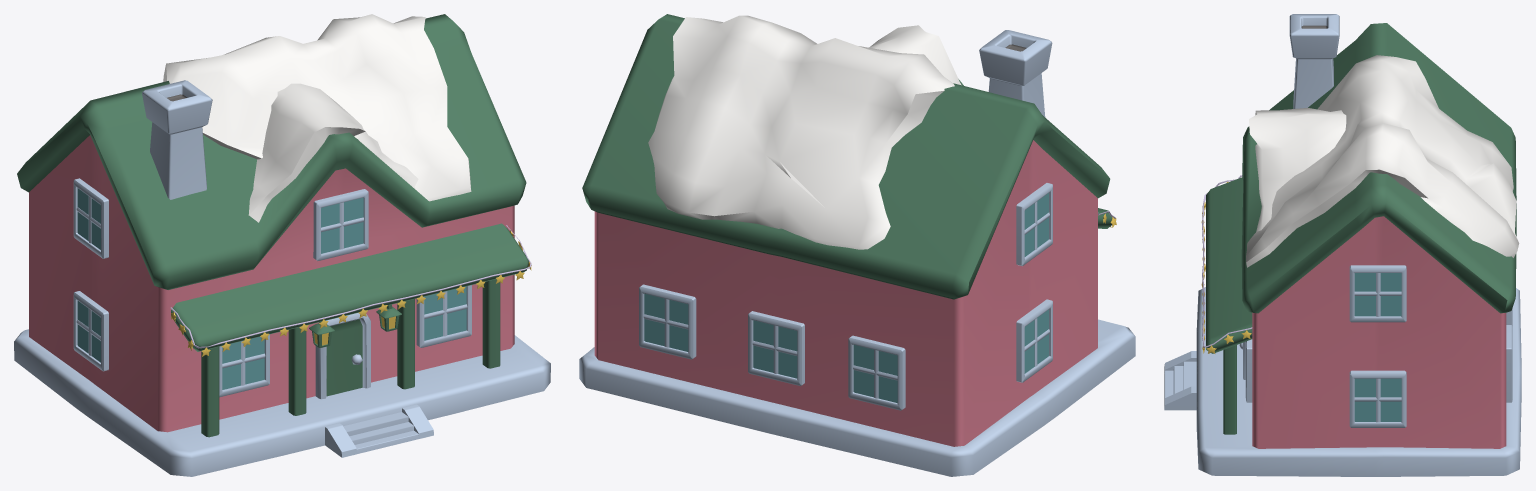
File: House_5.glb
3 views of the same model, side by side, from view 1: azimuth 30°, elevation 25°; view 2: azimuth 150°, elevation 25°; view 3: azimuth 270°, elevation 25° (orthographic). The views are drawn at different scales.
Visible parts, largest first — view 1: House_5; view 2: House_5; view 3: House_5.
Part boxes in pixels (bbox=[...]): House_5: bbox=[14, 14, 550, 476]; House_5: bbox=[579, 14, 1135, 476]; House_5: bbox=[1164, 14, 1521, 476].
Size of the model in its own units: 2.32 by 1.88 by 1.99.
1 material, 1 textured.
